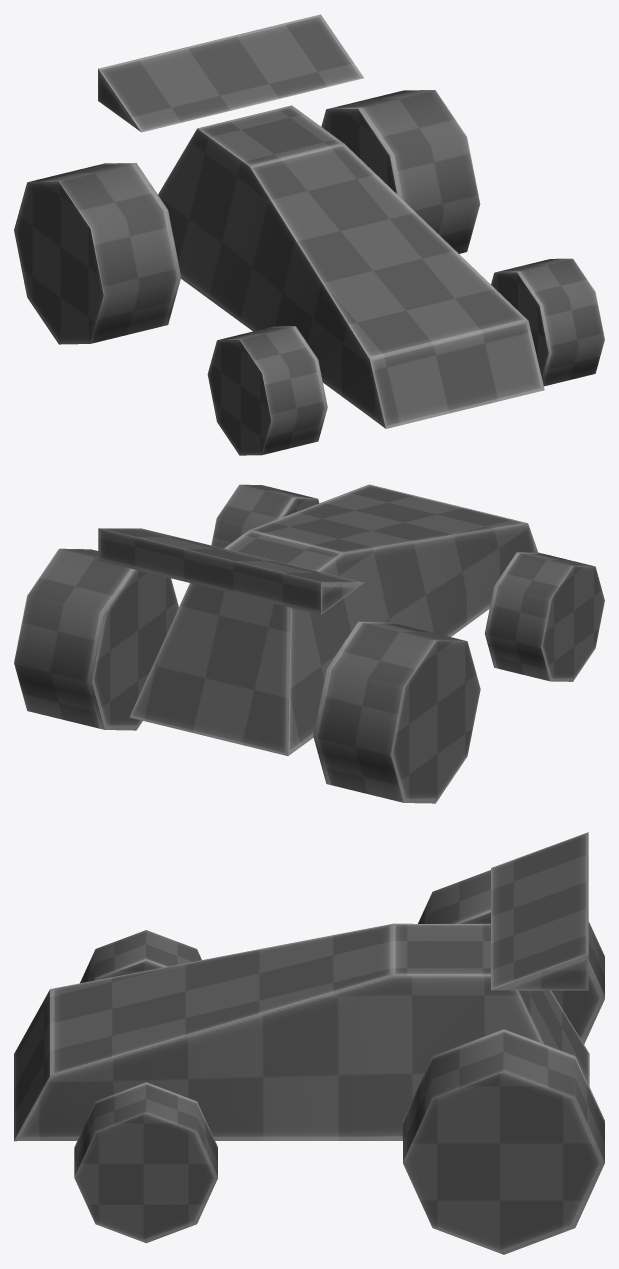
The model's file is car164.FBX.
3 views of the same model, one above another, from view 1: azimuth 30°, elevation 25°; view 2: azimuth 150°, elevation 25°; view 3: azimuth 270°, elevation 25° (orthographic). The views are drawn at different scales.
Visible parts, largest first — view 1: vehicle, wheelBR, wheelBL, wheelFR, wheelFL; view 2: vehicle, wheelBR, wheelBL, wheelFR, wheelFL; view 3: vehicle, wheelBL, wheelFL, wheelBR, wheelFR.
Boxes of the visible parts, box(x1,y1,x2,y2) form: vehicle: box(98, 14, 544, 428); wheelBR: box(14, 163, 181, 344); wheelBL: box(321, 90, 480, 253); wheelFR: box(207, 326, 327, 455); wheelFL: box(491, 258, 604, 386); vehicle: box(98, 484, 538, 755); wheelBR: box(313, 621, 480, 803); wheelBL: box(14, 548, 178, 730); wheelFR: box(484, 552, 604, 681); wheelFL: box(211, 484, 319, 548); vehicle: box(14, 832, 589, 1141); wheelBL: box(403, 1029, 604, 1254); wheelFL: box(74, 1082, 217, 1243); wheelBR: box(418, 870, 604, 1044); wheelFR: box(80, 930, 201, 983).
Size of the model in its own units: 69.72 by 40.62 by 84.21.
